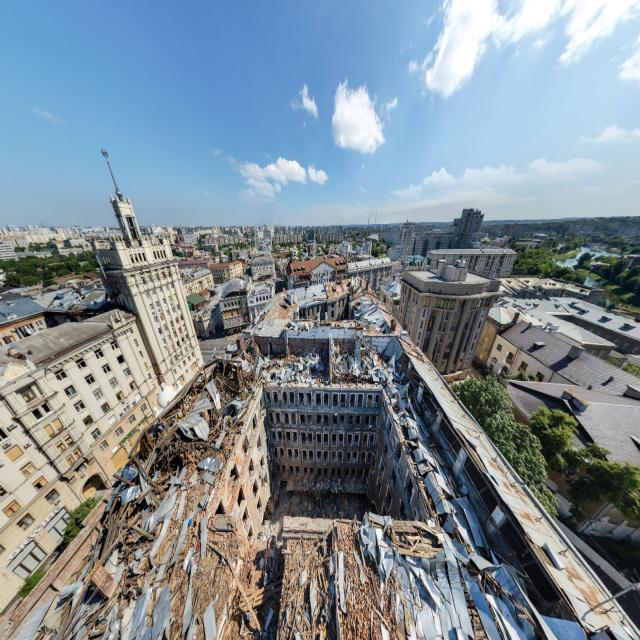building: (0, 164, 206, 623), (397, 258, 503, 378)
damaged_roof: (3, 270, 638, 639)
